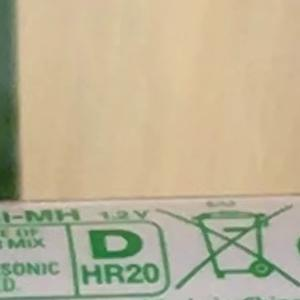HR20: (74, 254, 166, 293)
